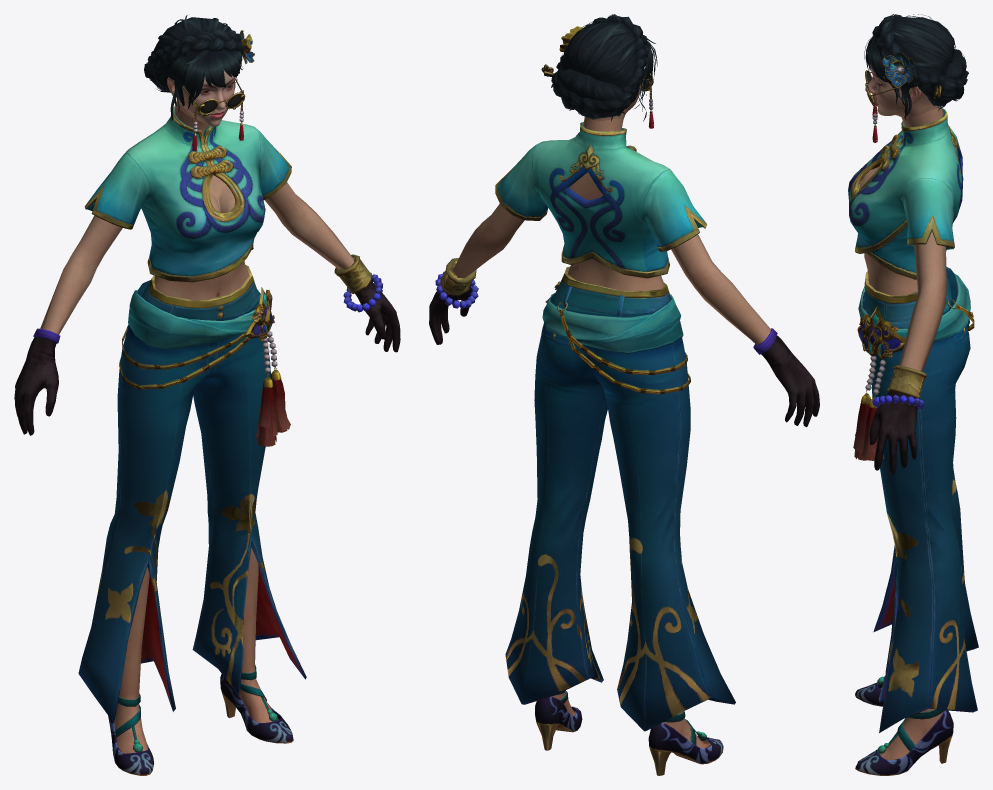
Rendered from glb-11.glb.
The picture shows the model from 3 angles, left to right: view 1: azimuth 30°, elevation 25°; view 2: azimuth 150°, elevation 25°; view 3: azimuth 270°, elevation 25°; orthographic projection.
Parts seen in each view (by area): view 1: Object_4, Object_5, Object_2, Object_7, Object_3, Object_6; view 2: Object_4, Object_5, Object_2, Object_7, Object_3; view 3: Object_4, Object_5, Object_2, Object_7, Object_3, Object_6.
Part boxes in pixels (x1,y1,x2,y2): Object_4: [78, 265, 306, 722]; Object_5: [14, 105, 400, 435]; Object_2: [40, 70, 354, 753]; Object_7: [144, 15, 245, 121]; Object_3: [108, 664, 293, 775]; Object_6: [182, 30, 254, 151]; Object_4: [505, 266, 735, 731]; Object_5: [429, 121, 819, 427]; Object_2: [453, 83, 770, 748]; Object_7: [551, 14, 657, 121]; Object_3: [535, 690, 723, 775]; Object_4: [853, 266, 978, 732]; Object_5: [848, 108, 963, 474]; Object_2: [859, 62, 946, 760]; Object_7: [864, 14, 968, 120]; Object_3: [855, 676, 953, 775]; Object_6: [865, 52, 941, 142].
Size of the model in its own units: 3.71 by 6.74 by 1.11.
7 materials, 7 textured.
